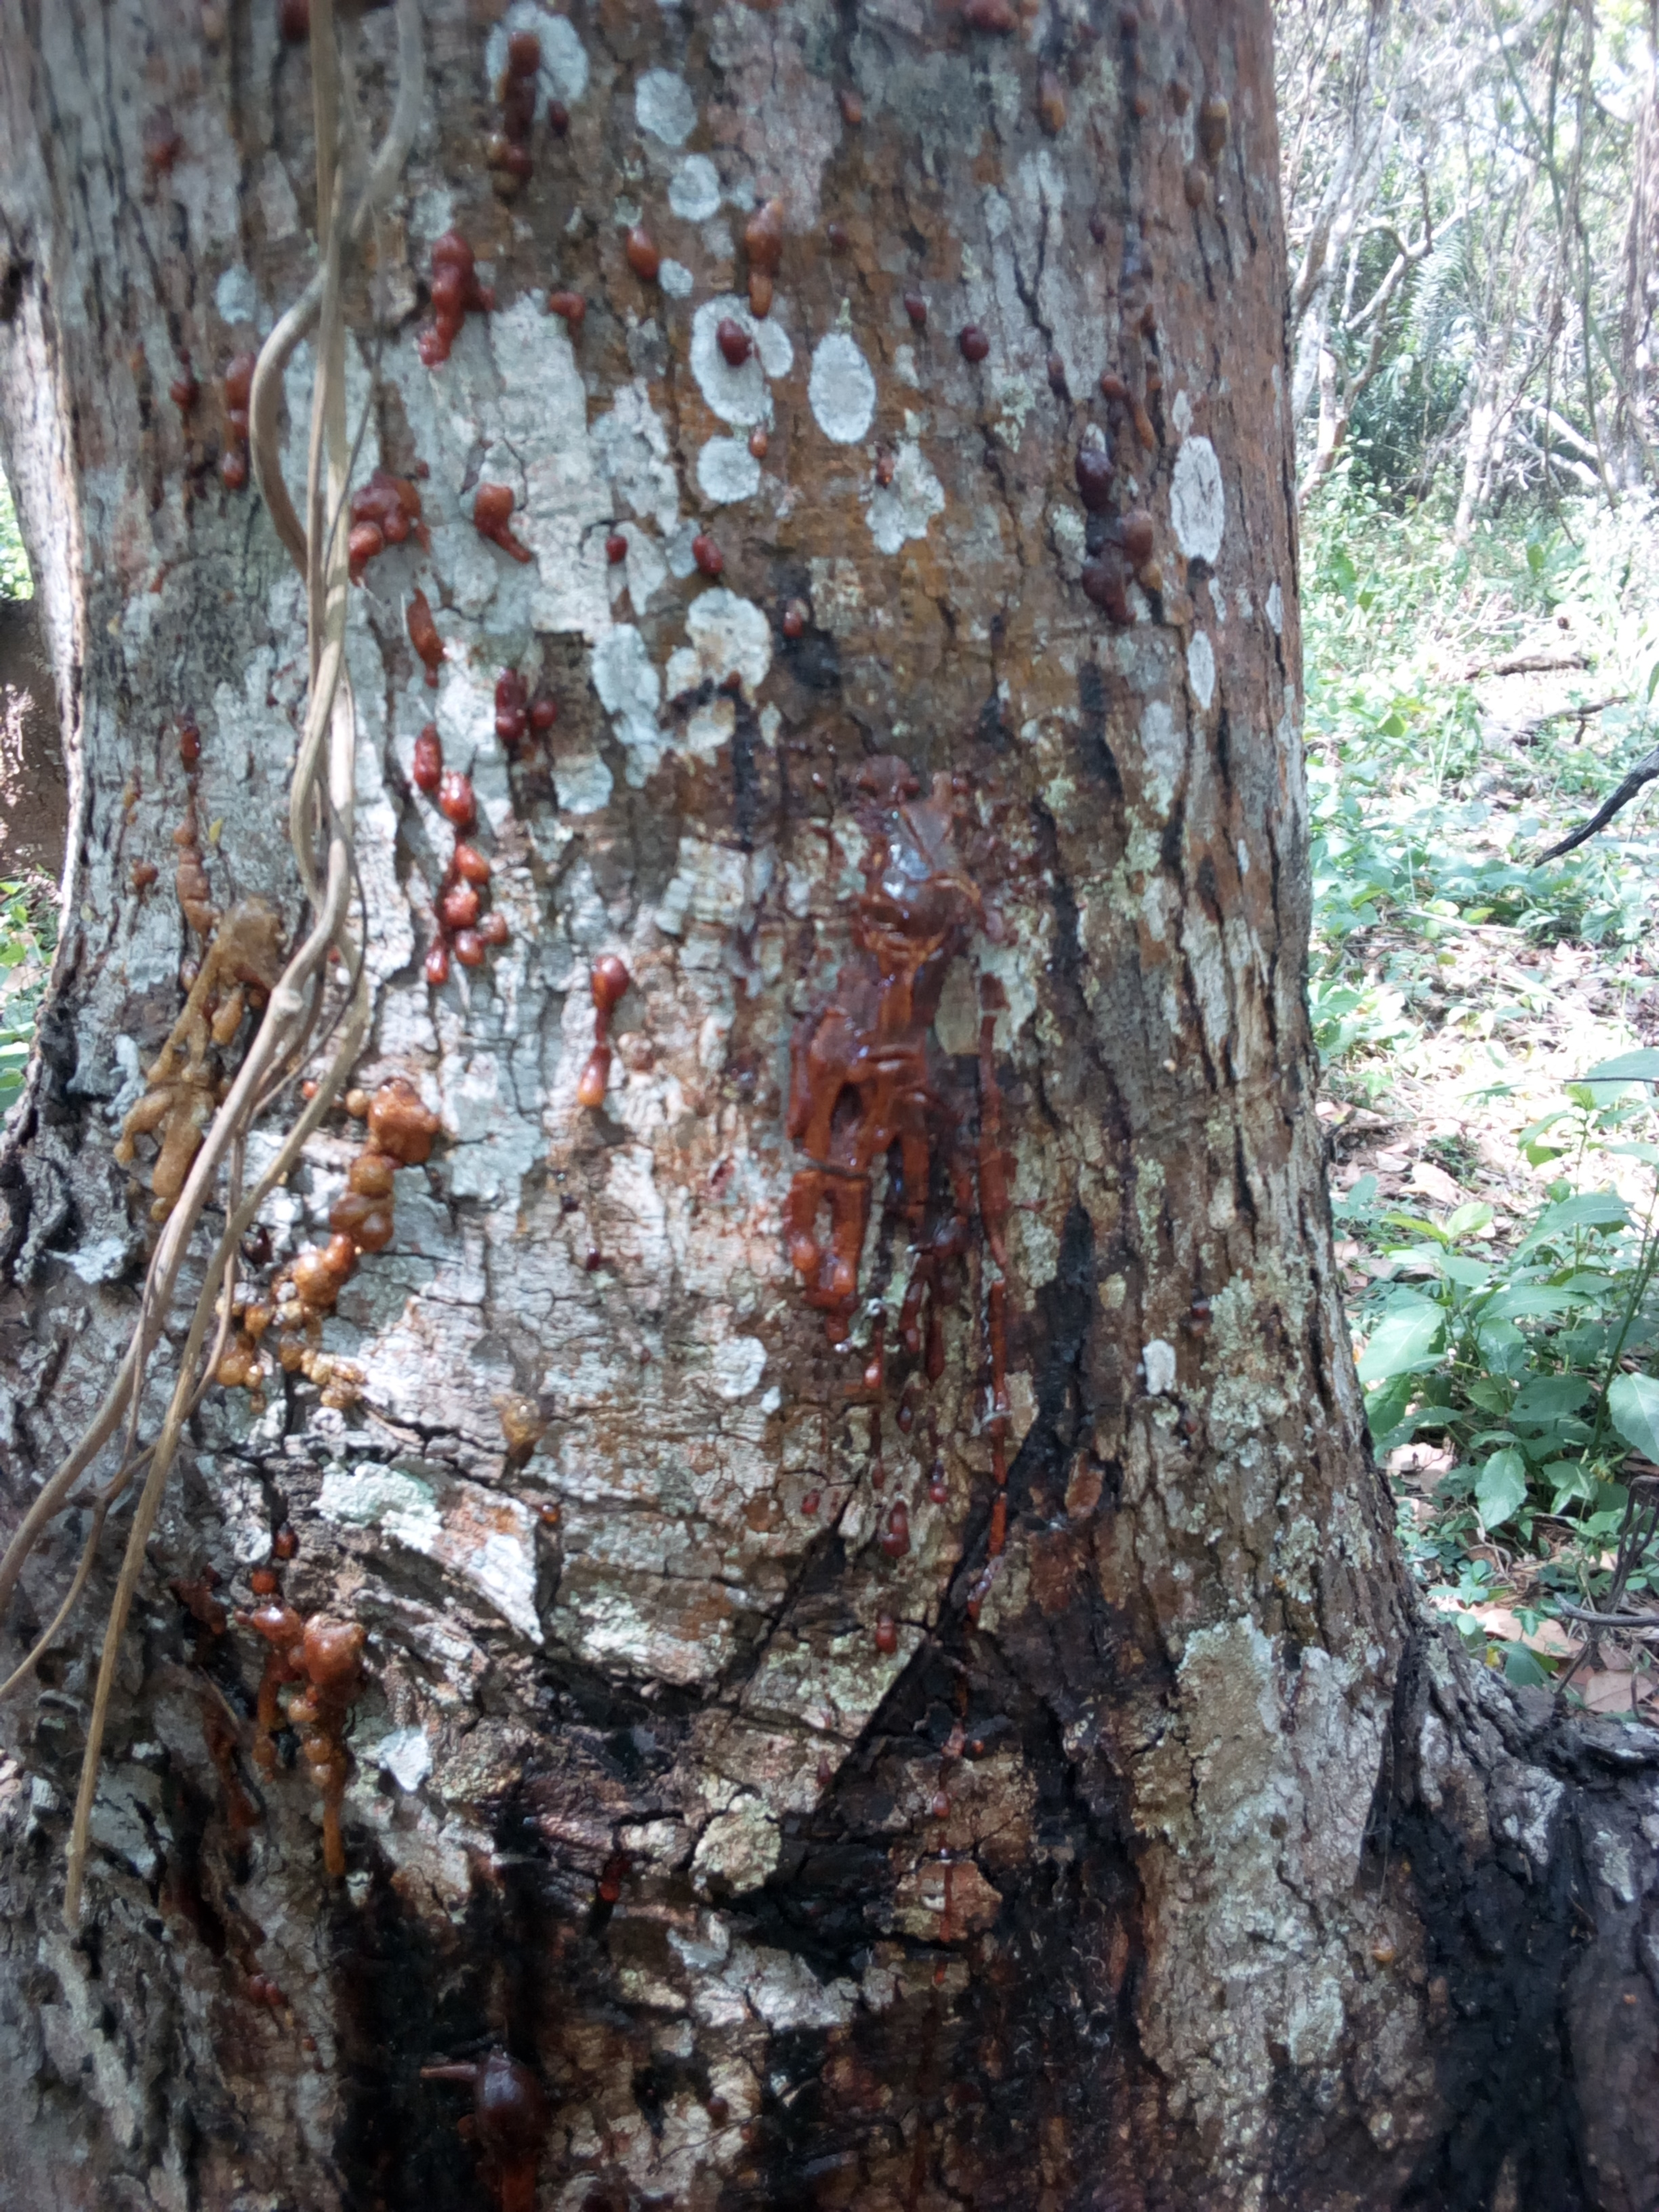Gommose: (270, 1634, 1263, 2212), (812, 815, 1049, 1425)
